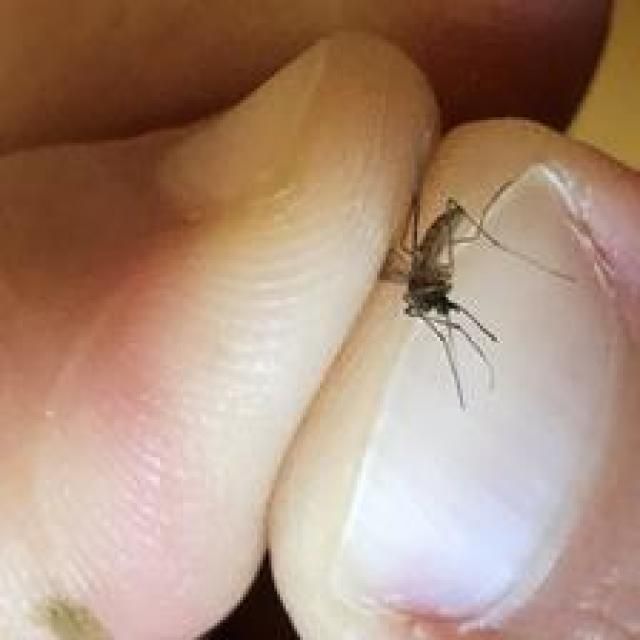Culex: (390, 184, 579, 410)
